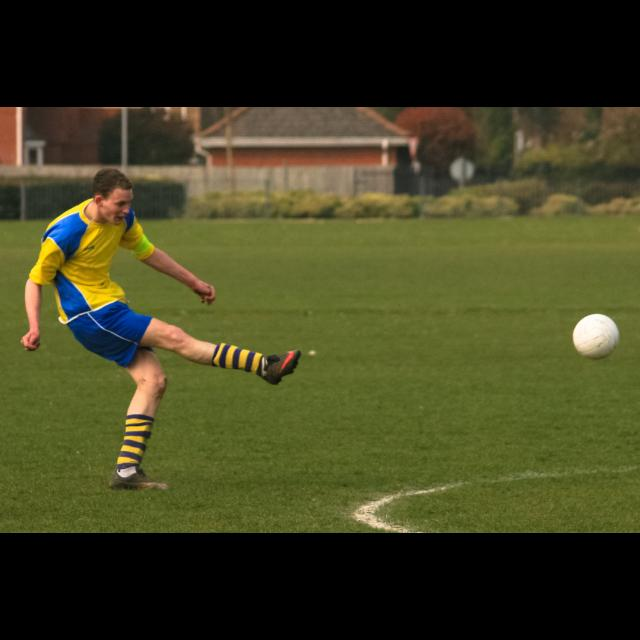Football: (570, 314, 616, 356)
